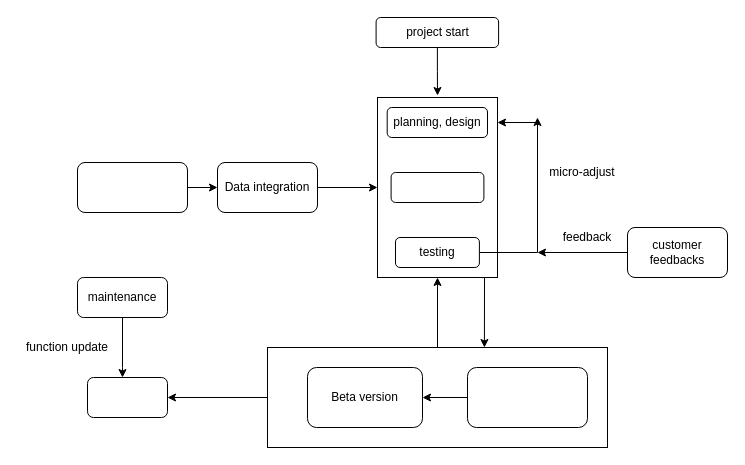
This 745x465 diagram has some shape labels left out. The shapes that lost their labels are listed below. From the top down, each one's centre as x and y in pixels, then its label:
At (132,187): "Extra data analysis & collection".
At (437,187): "implementation".
At (127,397): "final version".
At (527,397): "Alpha verison".
